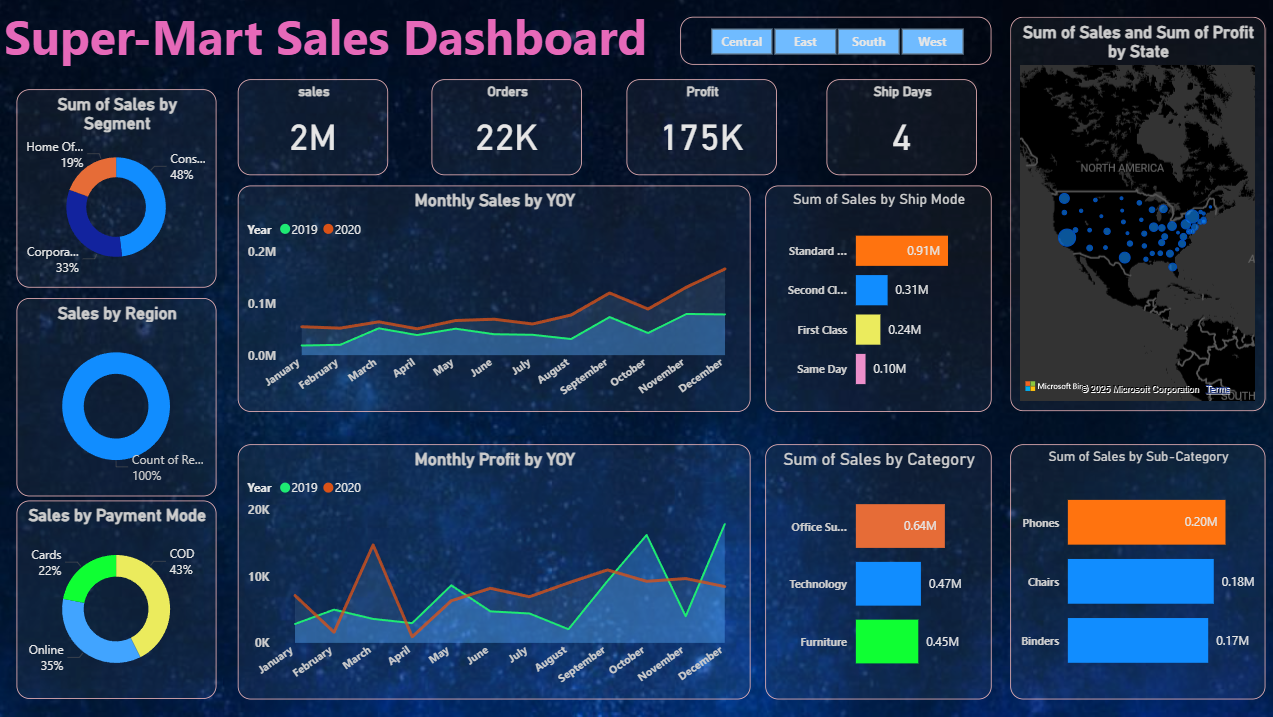

This screenshot's page, from the dashboard's own definition file:
{"tool":"powerbi","page":{"name":"Page 1","canvas":[1280,720],"ordinal":0},"visuals":[{"type":"clusteredBarChart","fields":{"Category":["SuperStore_Sales_Dataset.Category"],"Y":["Sum(SuperStore_Sales_Dataset.Sales)"]},"box":[766.7,446.4,226.1,255.1],"z":0},{"type":"clusteredBarChart","fields":{"Y":["Sum(SuperStore_Sales_Dataset.Sales)"],"Category":["SuperStore_Sales_Dataset.Sub-Category"]},"box":[1011.6,446.4,255.1,255.1],"z":1000},{"type":"clusteredBarChart","fields":{"Category":["SuperStore_Sales_Dataset.Ship Mode"],"Y":["Sum(SuperStore_Sales_Dataset.Sales)"]},"box":[766.7,187,226.1,226.1],"z":2000},{"type":"areaChart","title":"Monthly Profit by YOY","fields":{"Series":["SuperStore_Sales_Dataset.Order Date.Variation.Date Hierarchy.Year"],"Y":["Sum(SuperStore_Sales_Dataset.Profit)"],"Category":["SuperStore_Sales_Dataset.Order Date.Variation.Date Hierarchy.Month","SuperStore_Sales_Dataset.Order Date.Variation.Date Hierarchy.Day"]},"box":[239.1,446.4,513,255.1],"z":3000},{"type":"areaChart","title":"Monthly Sales by YOY","fields":{"Y":["Sum(SuperStore_Sales_Dataset.Sales)"],"Category":["SuperStore_Sales_Dataset.Order Date.Variation.Date Hierarchy.Month"],"Series":["SuperStore_Sales_Dataset.Order Date.Variation.Date Hierarchy.Year"]},"box":[239.1,187,513,226.1],"z":4000},{"type":"map","fields":{"Category":["SuperStore_Sales_Dataset.State"],"Size":["Sum(SuperStore_Sales_Dataset.Sales)"]},"box":[1011.6,18.8,255.1,394.2],"z":5000},{"type":"donutChart","title":"Sales by Payment Mode","fields":{"Category":["SuperStore_Sales_Dataset.Payment Mode"],"Y":["Sum(SuperStore_Sales_Dataset.Sales)"]},"box":[17.4,502.9,200,198.6],"z":6000},{"type":"donutChart","fields":{"Category":["SuperStore_Sales_Dataset.Segment"],"Y":["Sum(SuperStore_Sales_Dataset.Sales)"]},"box":[17.4,91.3,200,198],"z":7000},{"type":"donutChart","title":"Sales by Region","fields":{"Y":["Count(SuperStore_Sales_Dataset.Region)"]},"box":[17.4,300,200,198],"z":8000},{"type":"slicer","fields":{"Values":["SuperStore_Sales_Dataset.Region"]},"box":[681.2,18.8,311.6,47.8],"z":9000},{"type":"card","title":"sales","fields":{"Values":["Sum(SuperStore_Sales_Dataset.Sales)"]},"box":[239.1,81.2,150.7,95.7],"z":10000},{"type":"card","title":"Orders","fields":{"Values":["Sum(SuperStore_Sales_Dataset.Quantity)"]},"box":[431.9,81.2,150.7,95.7],"z":11000},{"type":"card","title":"Ship Days","fields":{"Values":["Avg(SuperStore_Sales_Dataset.Avgdelivry)"]},"box":[827.5,81.2,150.7,95.7],"z":12000},{"type":"card","title":"Profit","fields":{"Values":["Sum(SuperStore_Sales_Dataset.Profit)"]},"box":[627.5,81.2,150.7,95.7],"z":13000},{"type":"textbox","box":[0,0,665.1,76.7],"z":14000}]}

Visuals, with their boxes in screenshot pixels (x1, y1, x2, y2), scaled from the page's 1280x720 canvas onto the 1273x717 screenshot:
clusteredBarChart - SuperStore_Sales_Dataset.Category x Sum(SuperStore_Sales_Dataset.Sales): crop(763, 445, 987, 699)
clusteredBarChart - Sum(SuperStore_Sales_Dataset.Sales) x SuperStore_Sales_Dataset.Sub-Category: crop(1006, 445, 1260, 699)
clusteredBarChart - SuperStore_Sales_Dataset.Ship Mode x Sum(SuperStore_Sales_Dataset.Sales): crop(763, 186, 987, 411)
"Monthly Profit by YOY" areaChart: crop(238, 445, 748, 699)
"Monthly Sales by YOY" areaChart: crop(238, 186, 748, 411)
map - SuperStore_Sales_Dataset.State x Sum(SuperStore_Sales_Dataset.Sales): crop(1006, 19, 1260, 411)
"Sales by Payment Mode" donutChart: crop(17, 501, 216, 699)
donutChart - SuperStore_Sales_Dataset.Segment x Sum(SuperStore_Sales_Dataset.Sales): crop(17, 91, 216, 288)
"Sales by Region" donutChart: crop(17, 299, 216, 496)
slicer - SuperStore_Sales_Dataset.Region: crop(677, 19, 987, 66)
"sales" card: crop(238, 81, 388, 176)
"Orders" card: crop(430, 81, 579, 176)
"Ship Days" card: crop(823, 81, 973, 176)
"Profit" card: crop(624, 81, 774, 176)
textbox: crop(0, 0, 661, 76)
